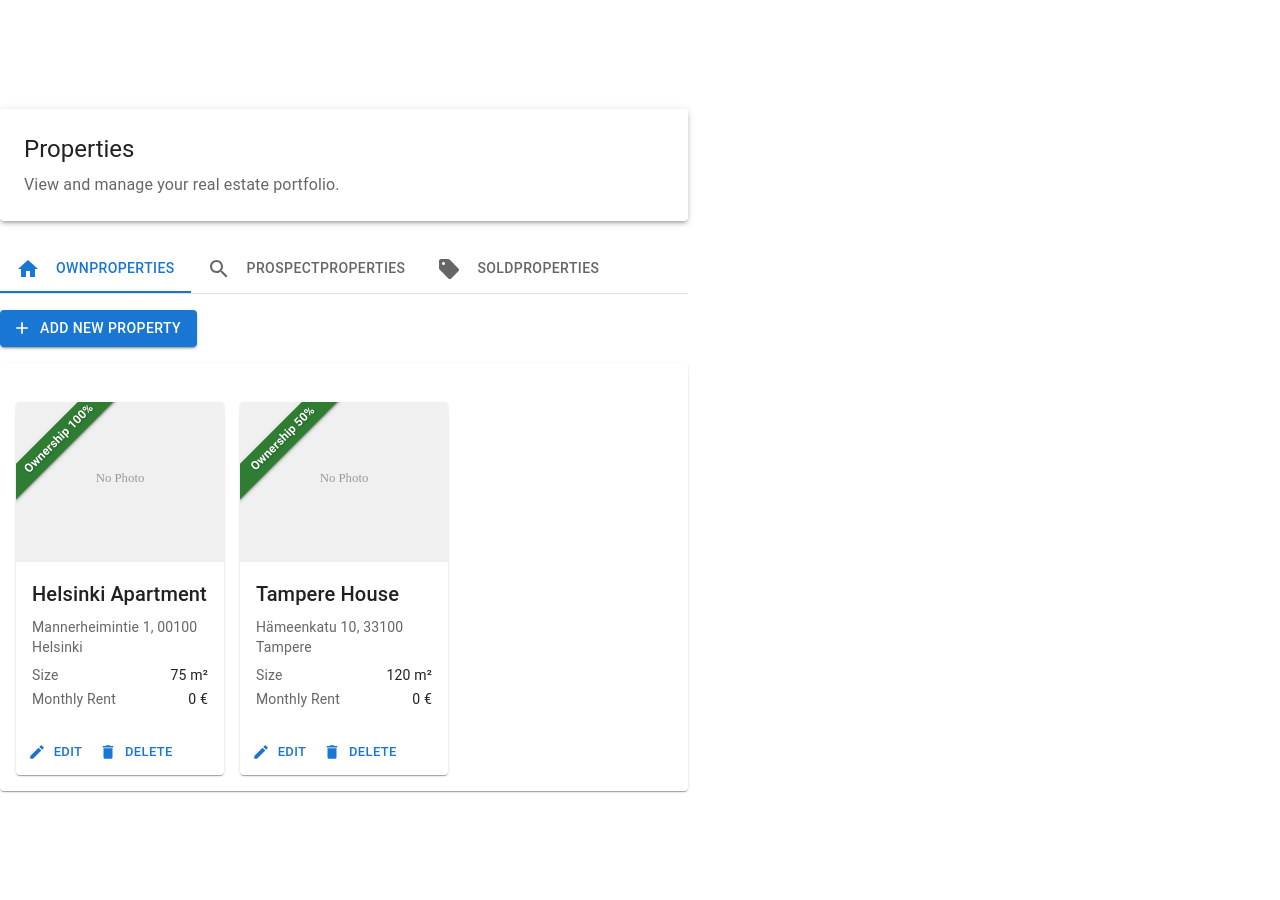
Test: Properties Integration › Happy path › closes delete dialog when cancel is clicked
Expected: the text "Helsinki Apartment" is shown, [32, 578, 208, 610]
Note: Open delete dialog
What coordinates should you click on to do the following:
click the 1st button "Delete"
I would click on:
 (137, 752)
Its box is [96, 737, 178, 767].
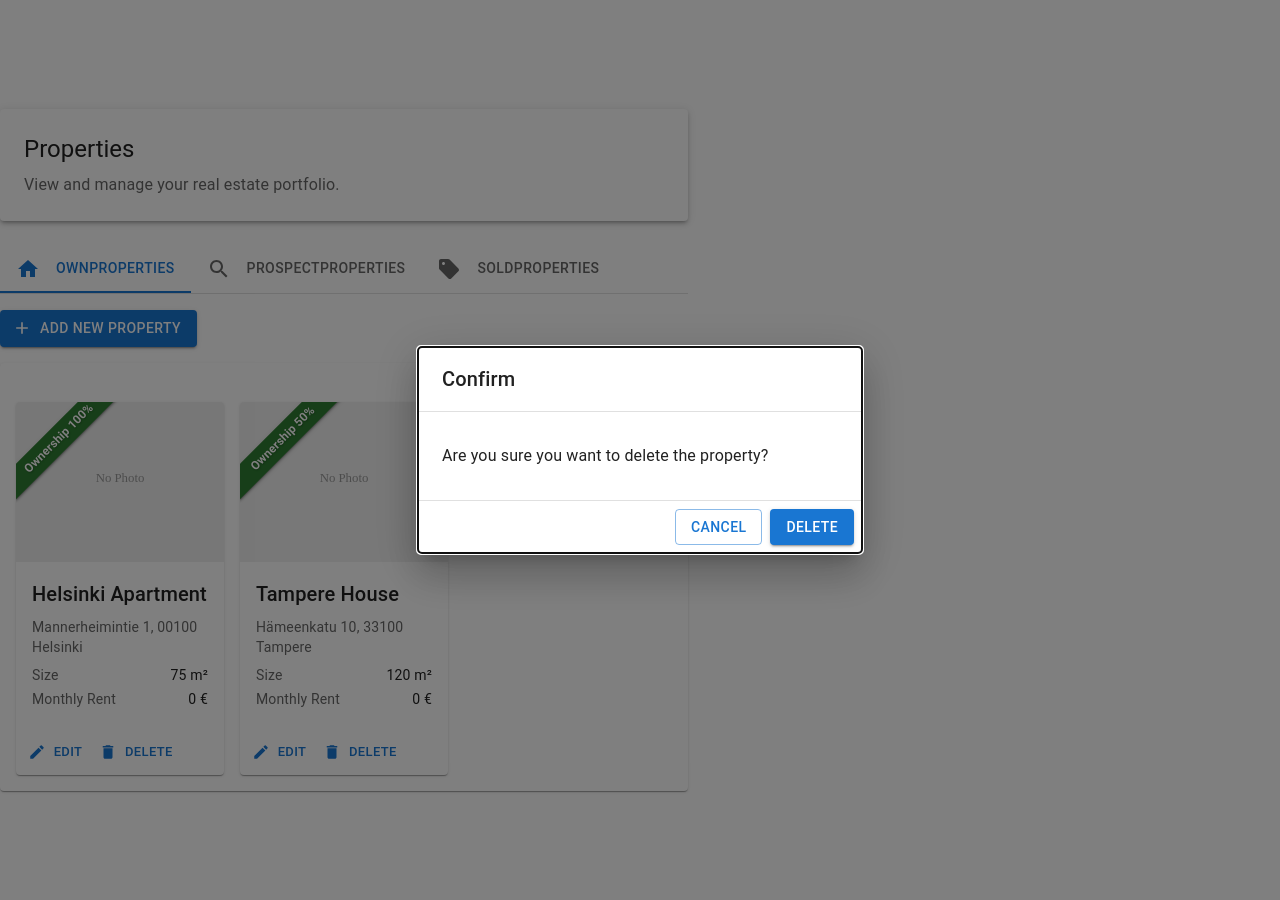
Expected: the text "Are you sure you want to delete the property?" is shown, [442, 446, 768, 465]
Note: Click cancel
What coordinates should you click on to do the following:
click the button "Cancel"
I would click on:
 (719, 527)
Its box is [675, 509, 762, 545].
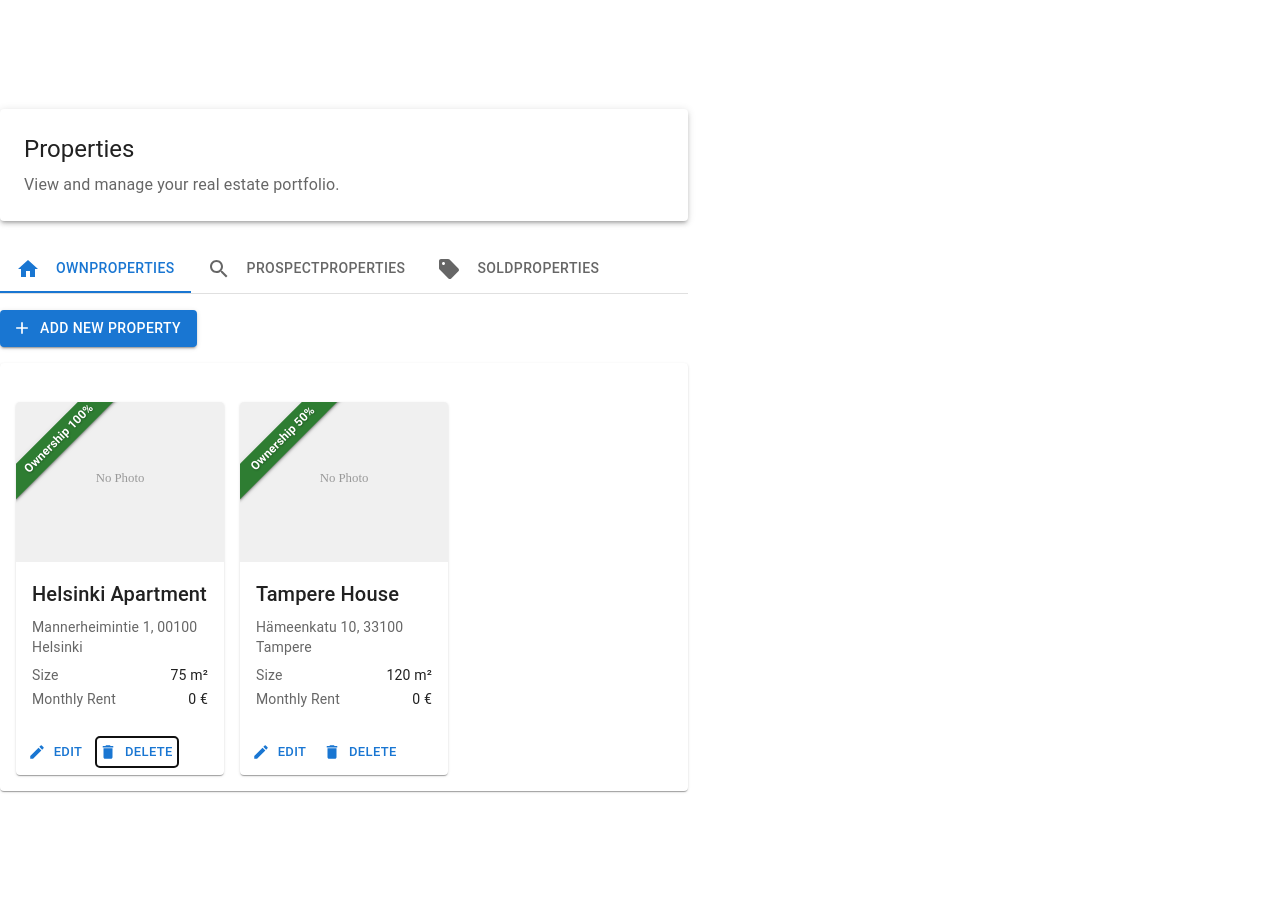
Expected: the text "Are you sure you want to delete" is gone
